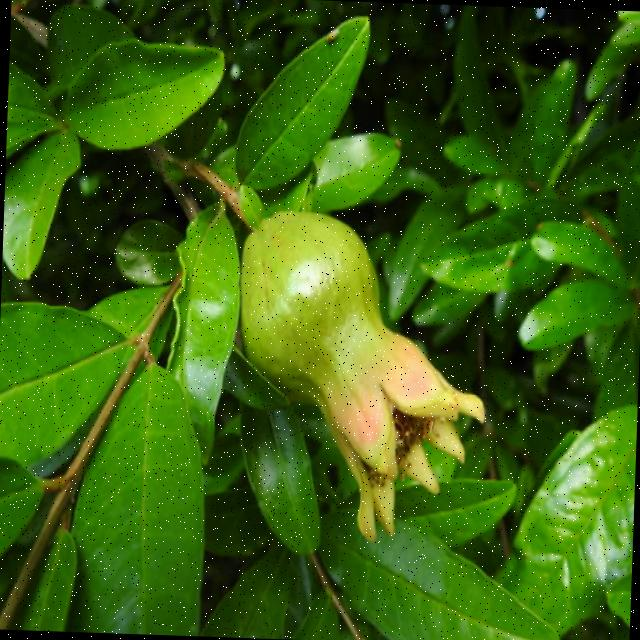Unripe: (232, 205, 494, 546)
